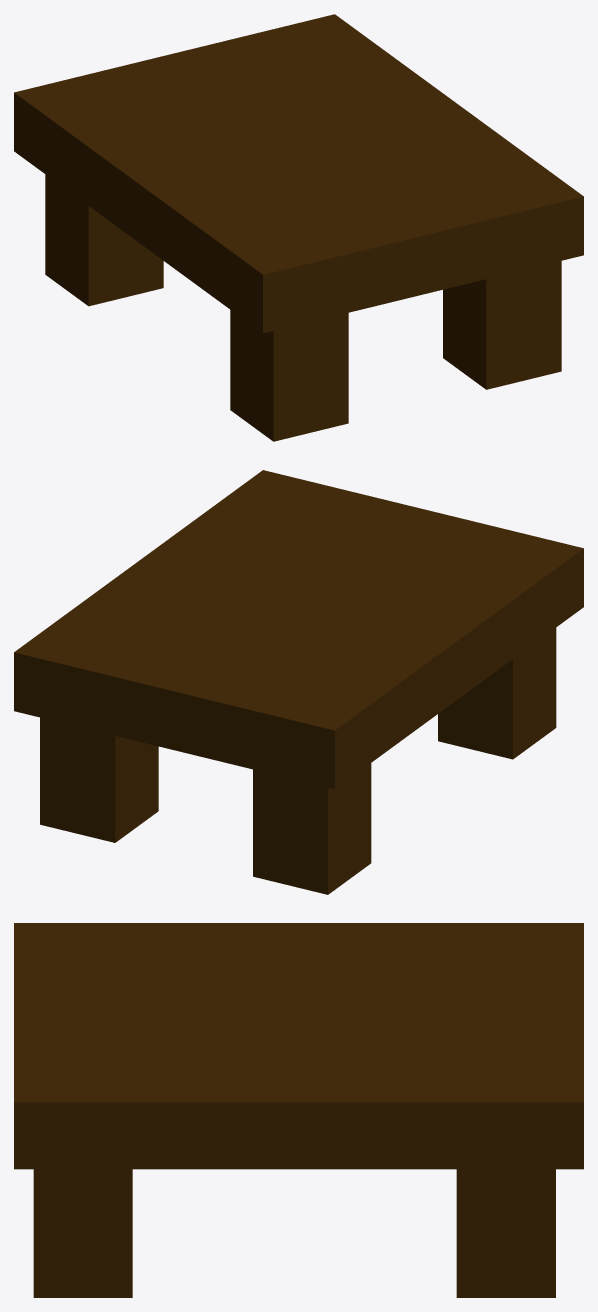
Rendered from Table.fbx.
The picture shows the model from 3 angles, top to bottom: view 1: azimuth 30°, elevation 25°; view 2: azimuth 150°, elevation 25°; view 3: azimuth 270°, elevation 25°; orthographic projection. The views are drawn at different scales.
Visible parts, largest first — view 1: Cube.001; view 2: Cube.001; view 3: Cube.001.
Part boxes in pixels (x1=…): Cube.001: x1=14, y1=14, x2=583, y2=441; Cube.001: x1=14, y1=470, x2=583, y2=894; Cube.001: x1=14, y1=923, x2=583, y2=1297.
Size of the model in its own units: 350 by 185 by 470.
